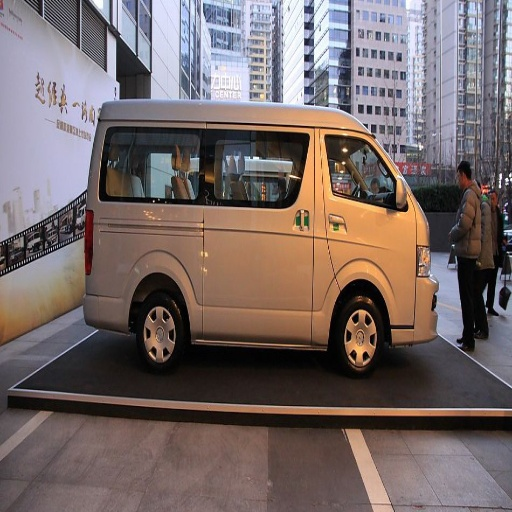trunk: (96, 204, 408, 328)
